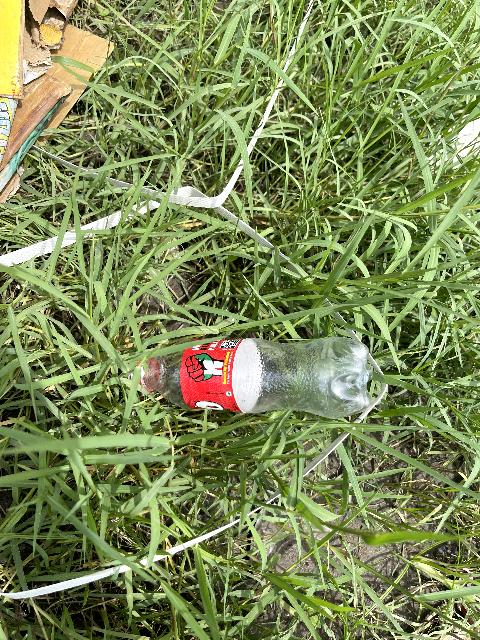bottle: (111, 316, 410, 428)
